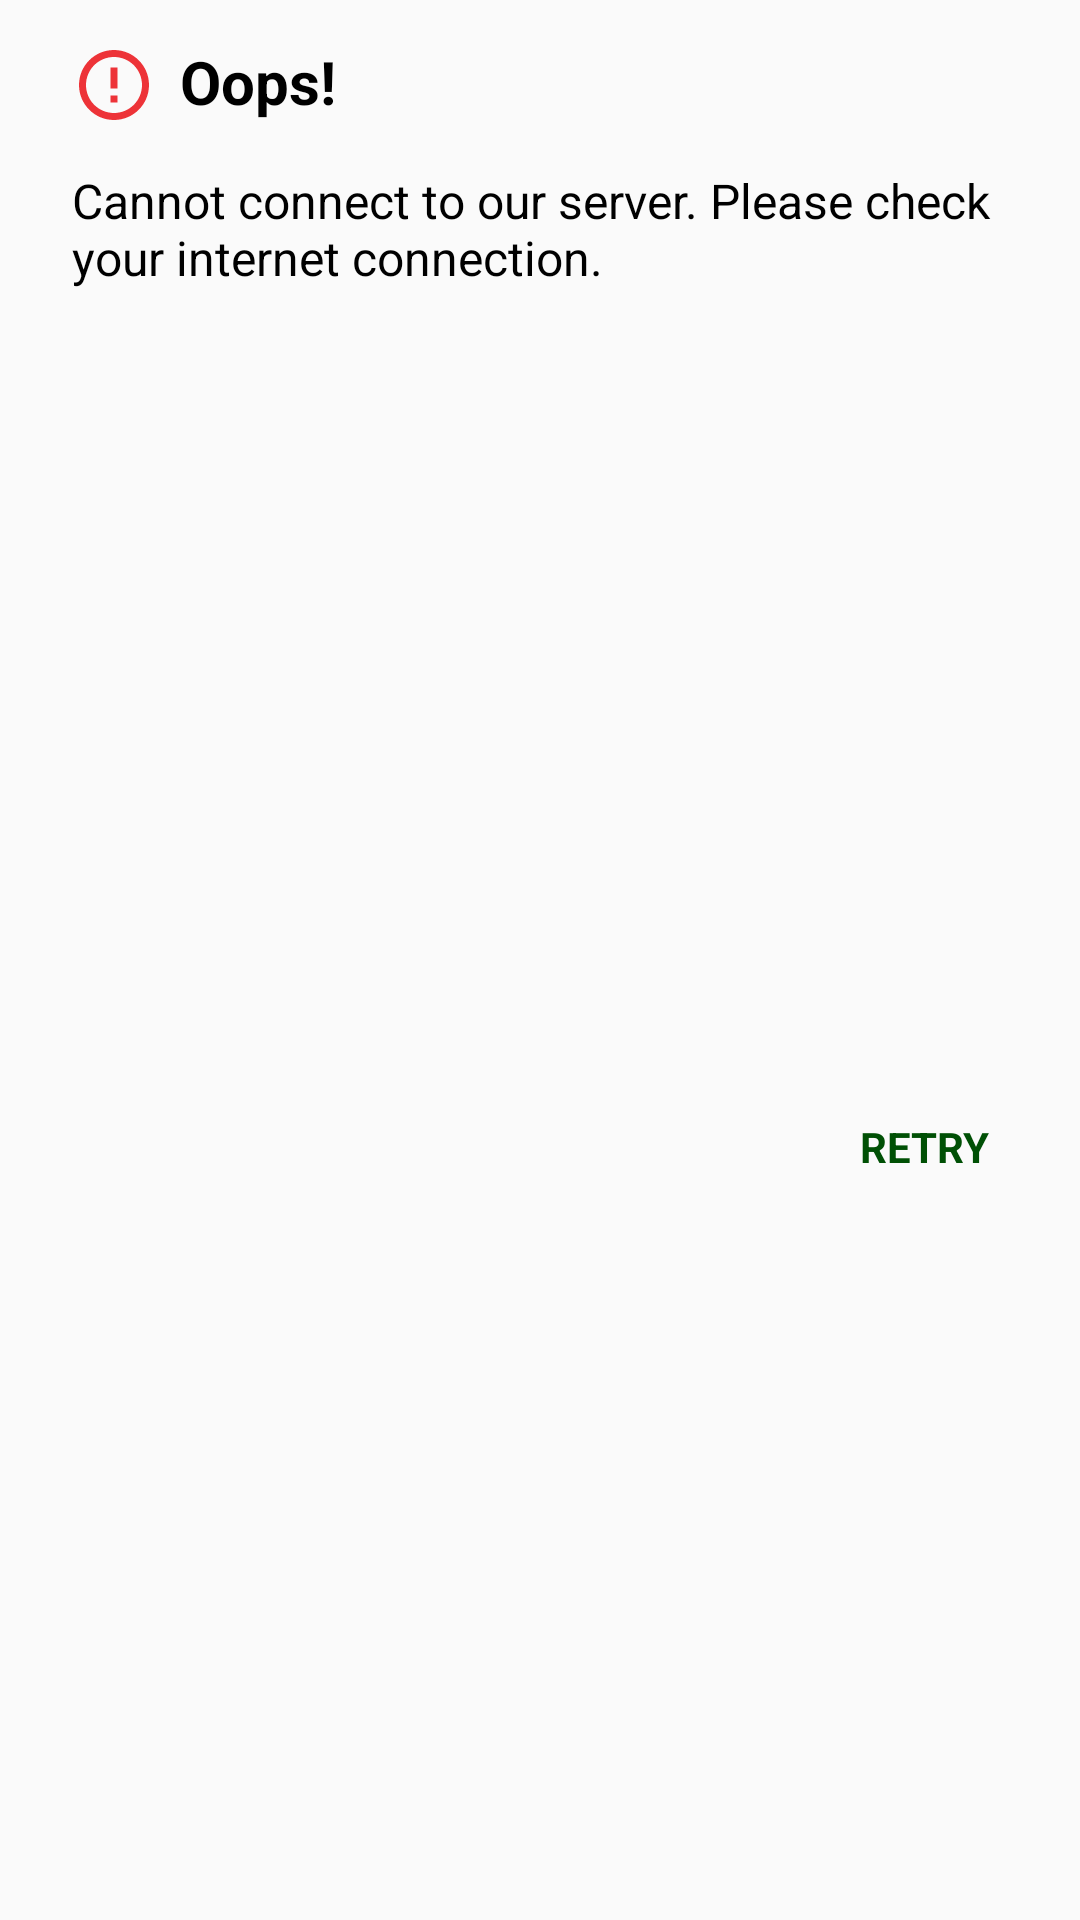

Icons on this 1080x1920 Android screen, each with its box as (x1, y1, x2, y2):
error: (79, 50, 149, 120)
